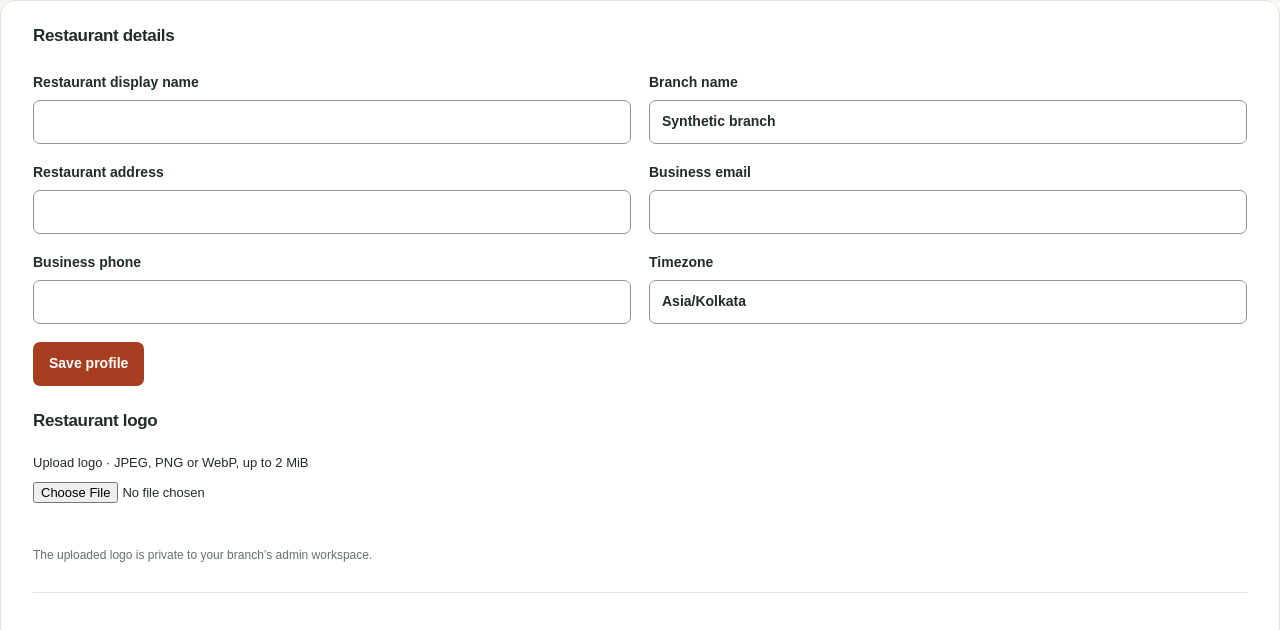
Test: server field errors retain their message, associate the exact control and focus after async busy state ends
In the field labelled "Business phone": (332, 302) [33, 280, 631, 324], type "+919999999999"
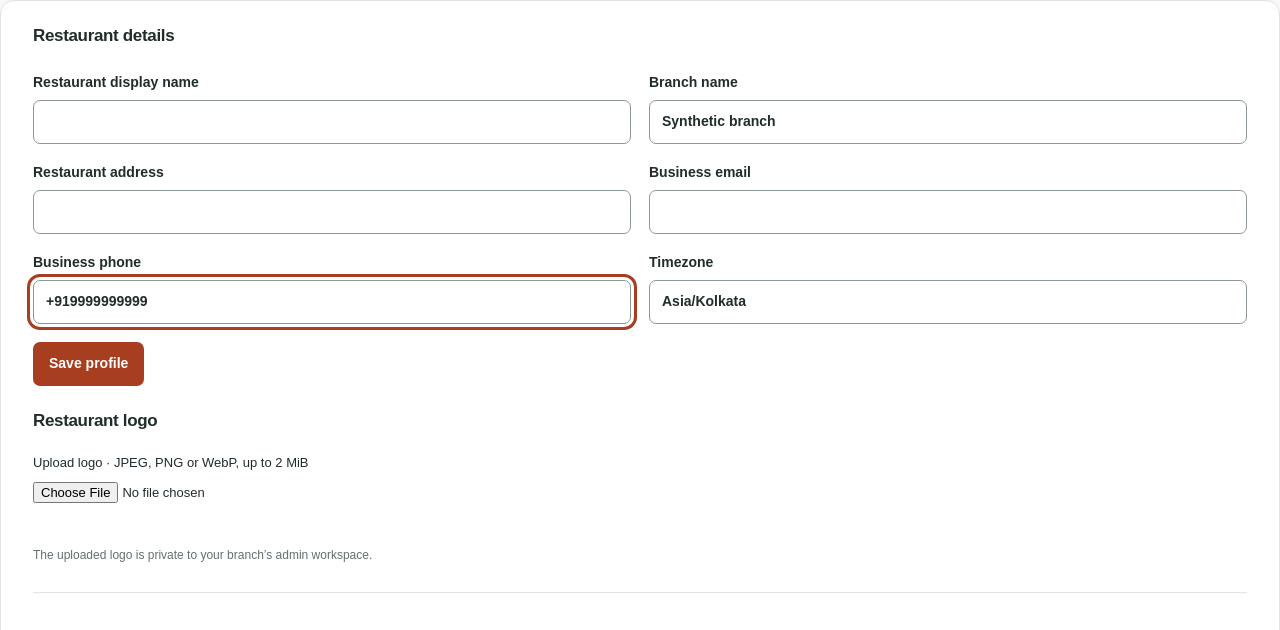
Click the button "Save profile": (89, 364) [33, 342, 144, 386]
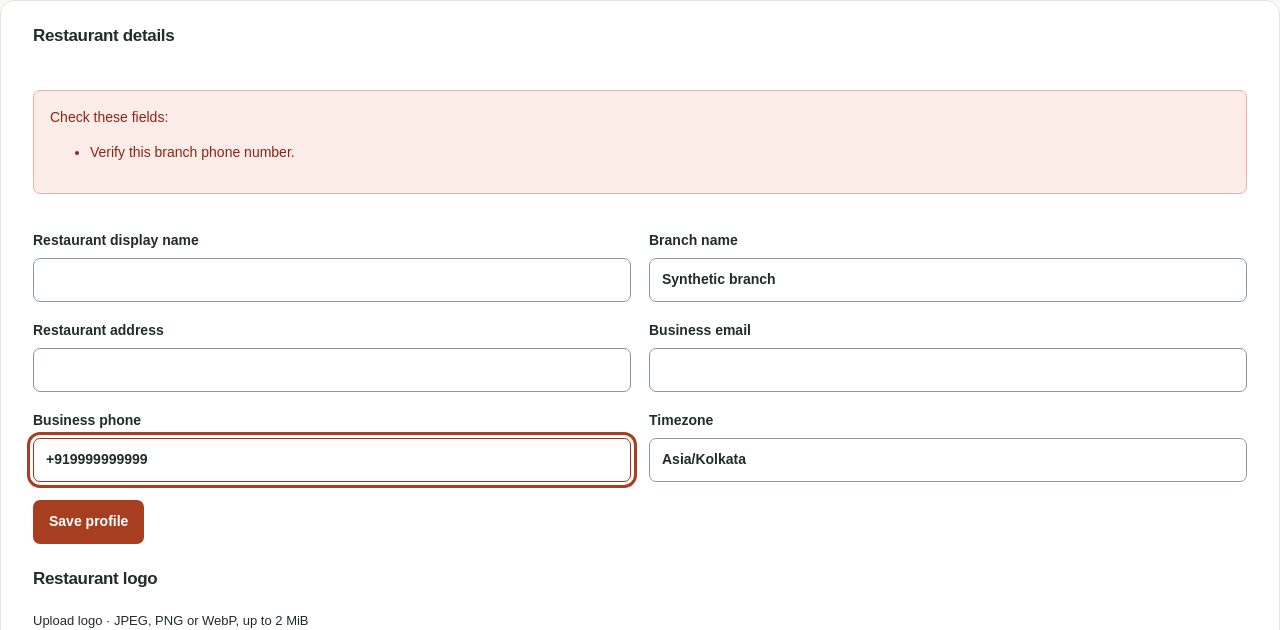
Result: the list item "Verify this branch phone number." is shown at [90, 144, 295, 160]
